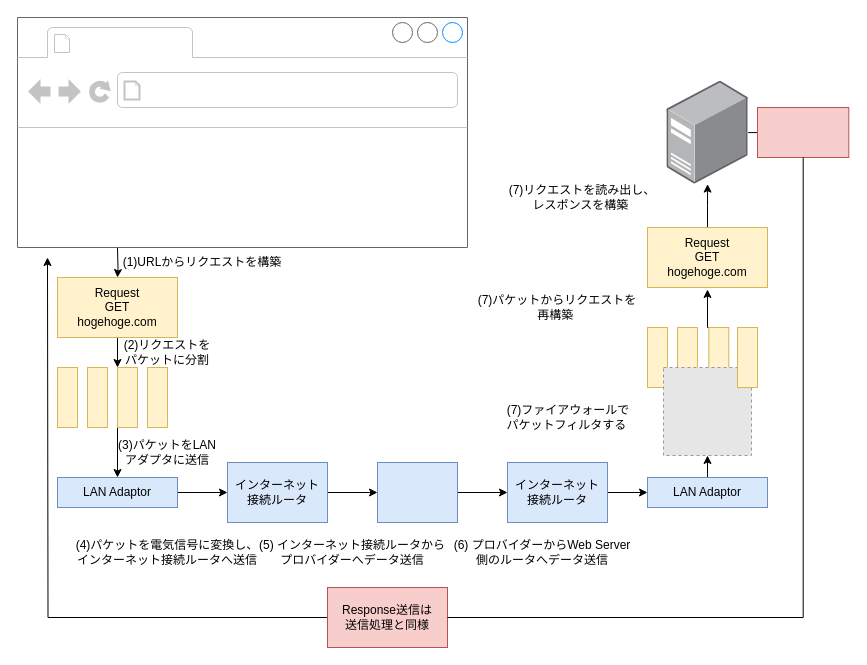
Some shapes in this 867 by 665 pixel diagram are drawn without their labels. Grey dashed boxes stand in for pictures. The shapes that lost their labels are listed below. From the top down, each one's box as (x1, y1, x2, y2) in pixels, then its label:
(76, 28, 188, 56): Page 1
(146, 76, 398, 104): http://hogehoge.html
(756, 106, 849, 158): Response hogehoge.html
(376, 462, 458, 522): プロバイダー
